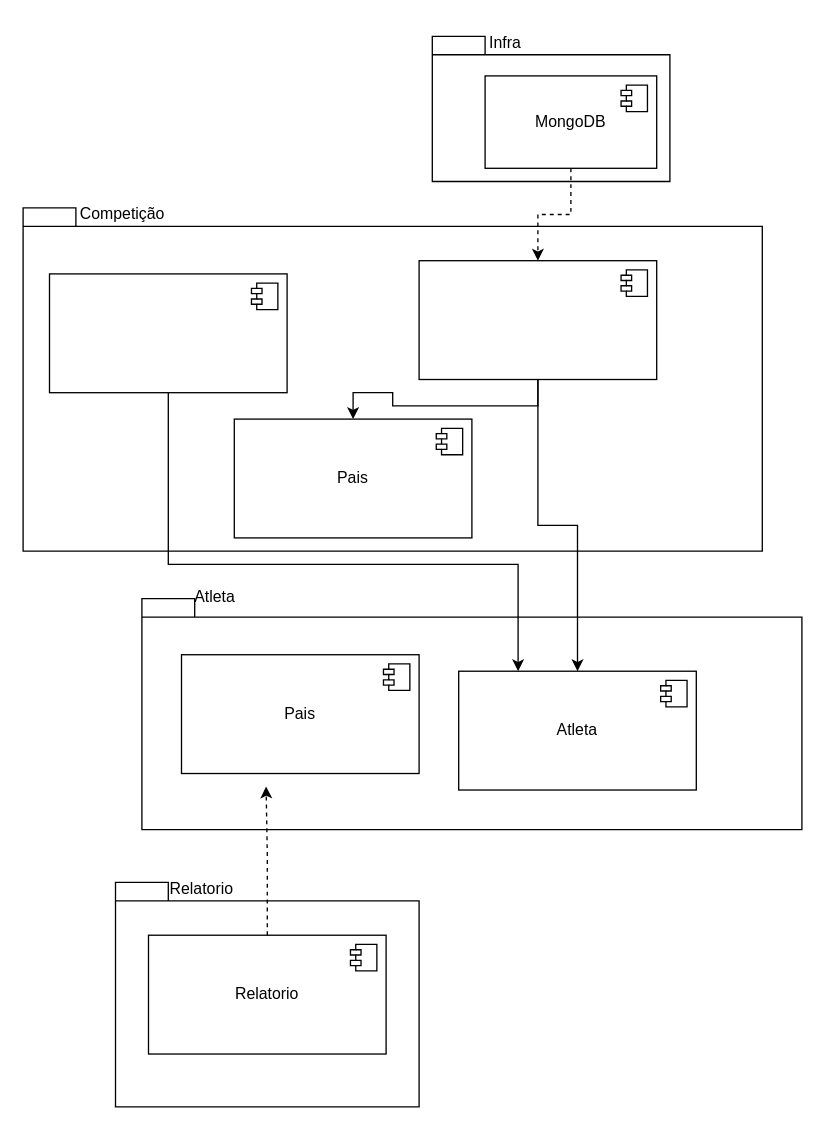
The diagram is 825 pixels wide and 1130 high, and some of its shapes have lost their labels. The centre of each missing label's shape, as x and y in pixels:
"Competicao" belongs at [537,319].
"Resultado" belongs at [167,333].
